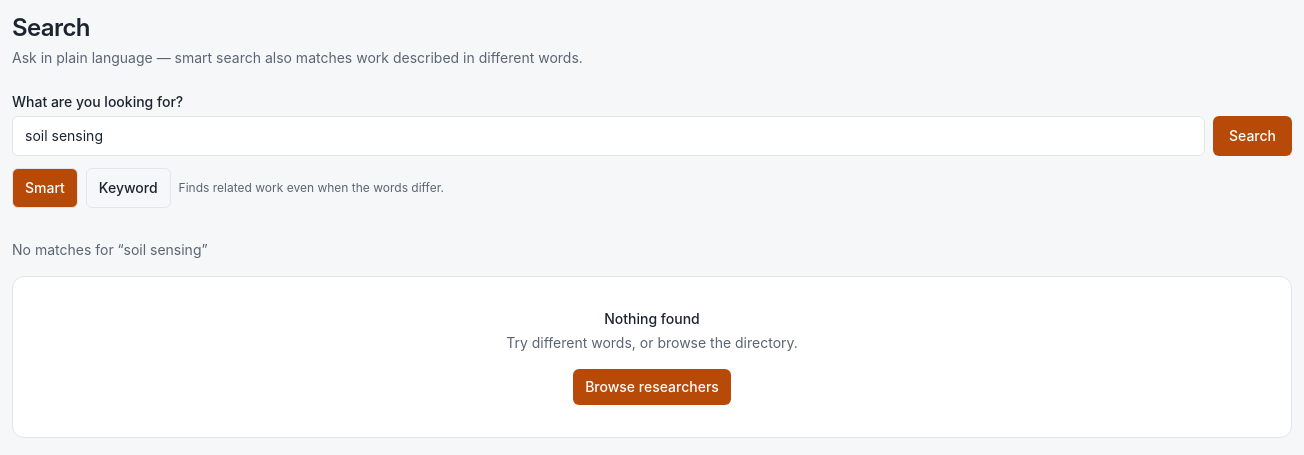
SearchPage › switches to keyword search when asked
This screenshot has width=1304, height=455.
Step 1. Click the button "Keyword" → [128, 188], box [86,168,171,208]
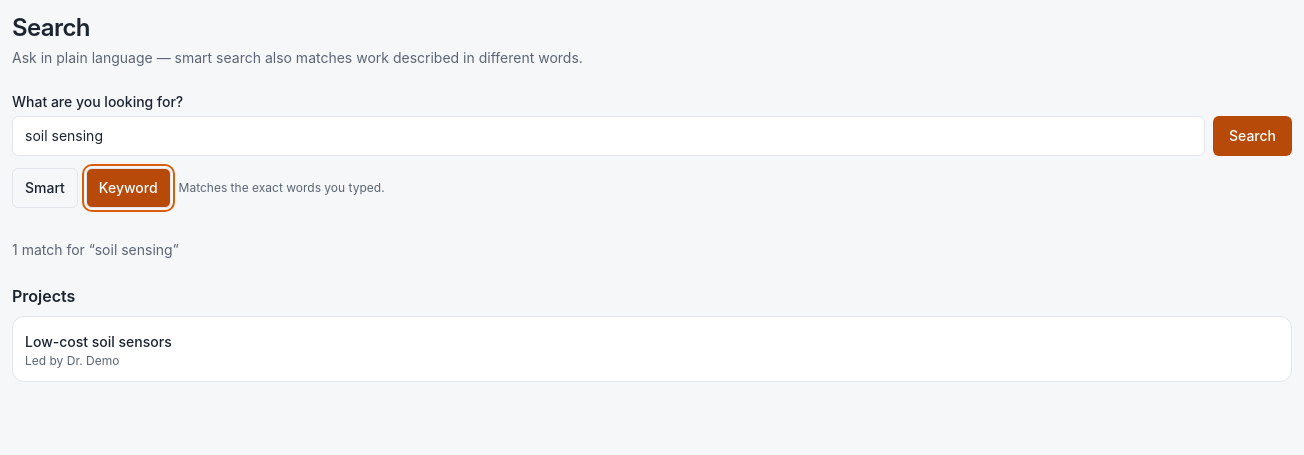
Expected: the link "Low-cost soil sensors" is shown, [25,333,172,350]
